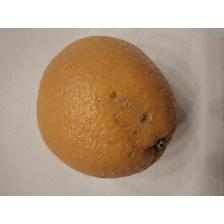Orange: (36, 34, 178, 180)
